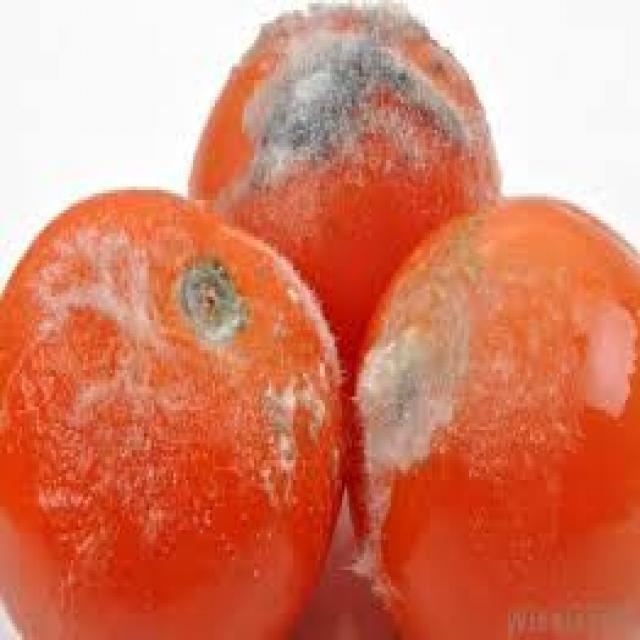organic waste: (0, 180, 342, 633), (344, 193, 638, 637), (186, 0, 498, 407)
